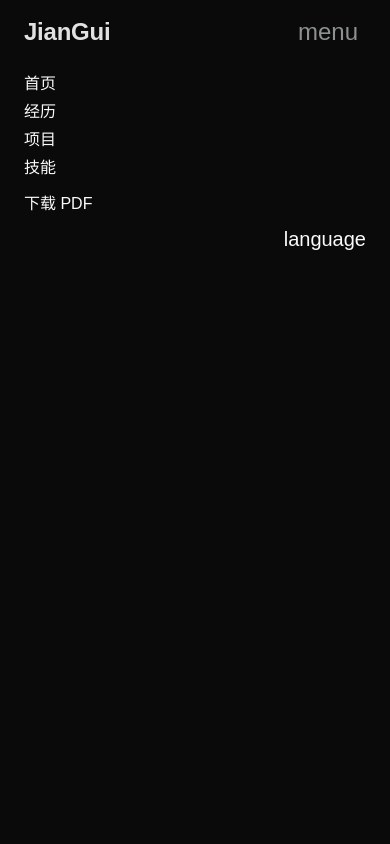
Test: navbar — mobile hamburger drawer › opens the drawer when hamburger is clicked
Click the button with aria-label "打开菜单": (328, 32) top-left (290, 8), bottom-right (366, 56)
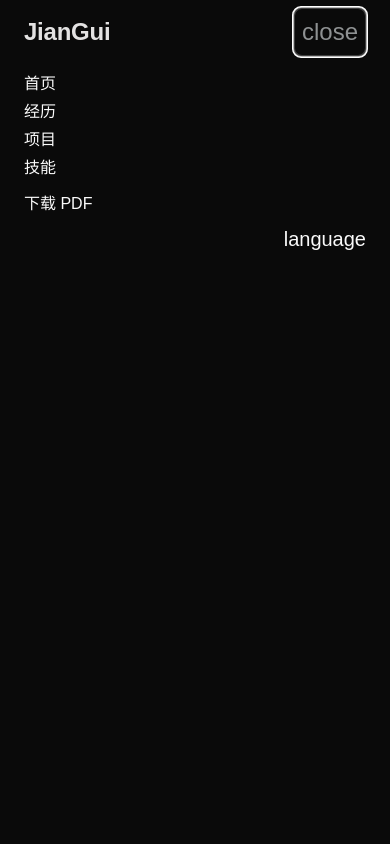
Expected: the dialog named "导航菜单" is shown, top-left (0, 64), bottom-right (389, 278)
Result: the button with aria-label "关闭菜单" is shown at top-left (294, 8), bottom-right (366, 56)
